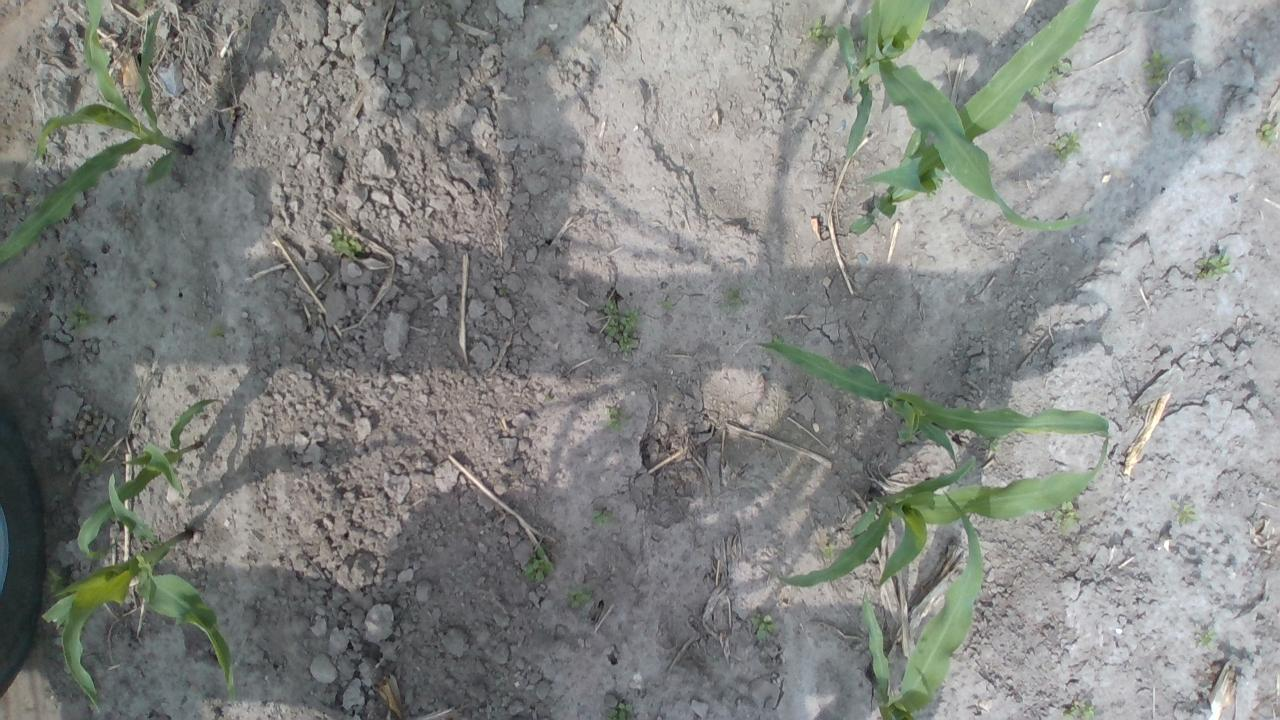Maize: (849, 0, 1099, 237), (834, 0, 1090, 230), (766, 438, 1110, 591), (0, 0, 191, 268), (40, 474, 238, 710), (756, 342, 1109, 468), (858, 491, 984, 720), (77, 398, 218, 559)
Weeds: (600, 297, 640, 352), (522, 544, 558, 584), (1174, 105, 1212, 140), (1141, 49, 1175, 87), (77, 446, 112, 480), (329, 223, 362, 258), (1048, 131, 1081, 164), (1192, 253, 1232, 280), (42, 566, 70, 602), (804, 17, 836, 48), (1052, 500, 1082, 532), (67, 303, 102, 330), (1168, 498, 1198, 524), (1060, 700, 1098, 720), (750, 610, 775, 640), (564, 582, 592, 608), (604, 405, 629, 432), (1046, 56, 1073, 81), (722, 287, 747, 311), (1253, 121, 1277, 146), (606, 700, 634, 720), (592, 507, 616, 526), (978, 433, 1004, 450), (1196, 626, 1216, 646), (207, 322, 226, 342), (822, 542, 837, 558), (132, 0, 150, 11), (1028, 84, 1042, 96), (770, 334, 784, 344), (658, 300, 672, 310), (498, 288, 506, 294)
